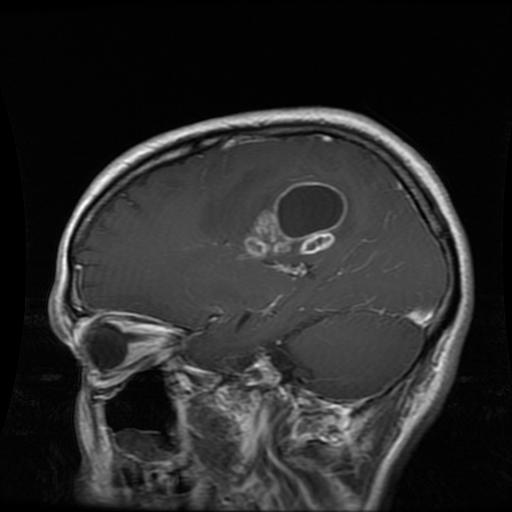Gliomia_tumour: (242, 176, 348, 278)
